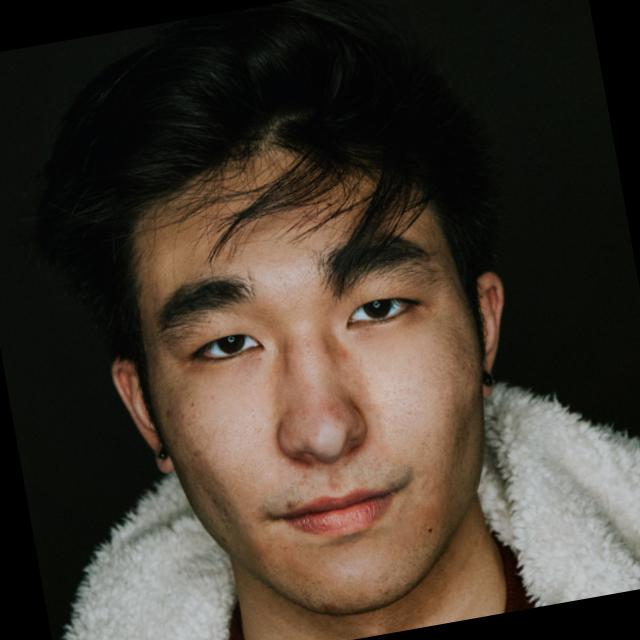face: (47, 55, 579, 640)
